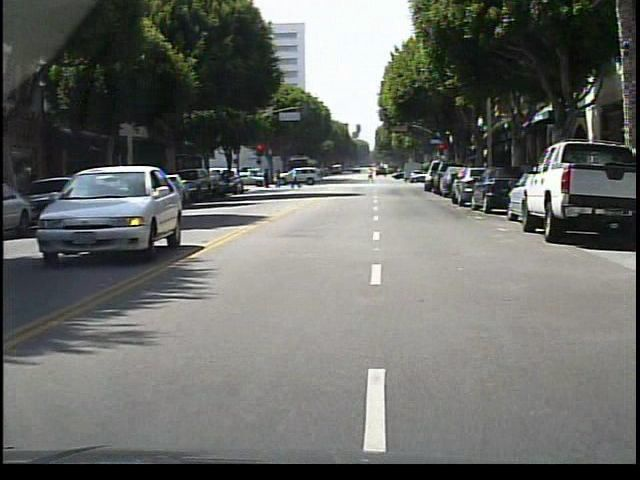person: (287, 165, 307, 194)
